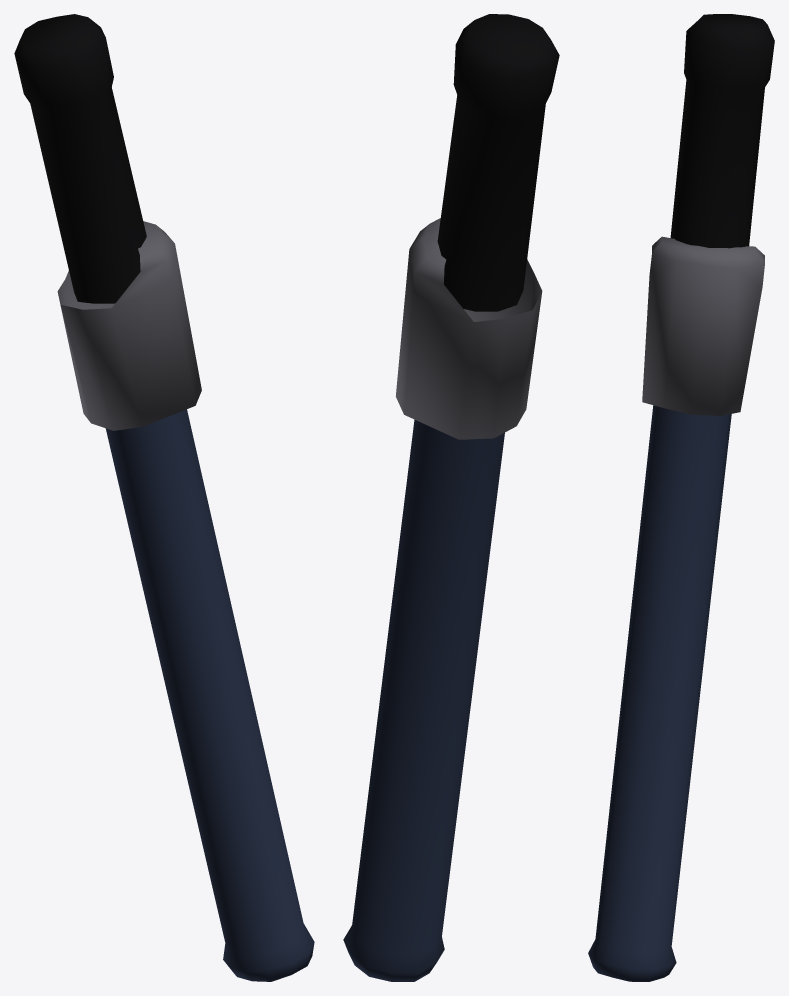
The model's file is prota.baton.v3.low.glb.
3 views of the same model, side by side, from view 1: azimuth 30°, elevation 25°; view 2: azimuth 150°, elevation 25°; view 3: azimuth 270°, elevation 25° (orthographic). The views are drawn at different scales.
Parts seen in each view (by area): view 1: Prota_Baton; view 2: Prota_Baton; view 3: Prota_Baton.
Boxes of the visible parts, bbox=[...] form: Prota_Baton: bbox=[14, 14, 314, 981]; Prota_Baton: bbox=[343, 14, 559, 981]; Prota_Baton: bbox=[588, 14, 774, 981].
Bounding box in the file's own units: 0.0873 × 0.3319 × 0.0632.
